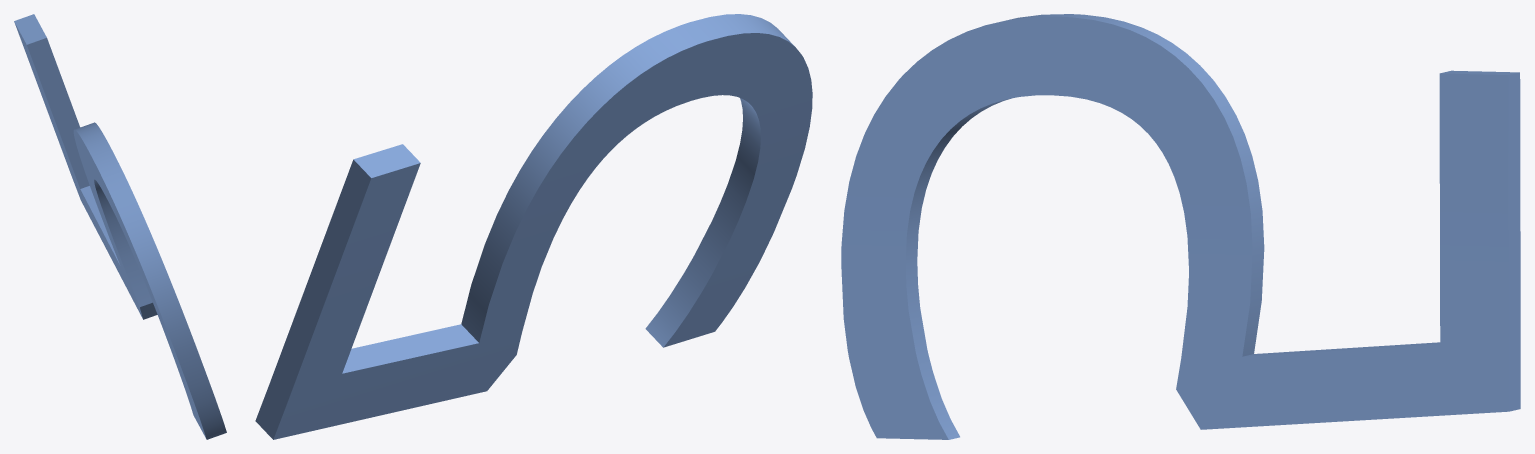
The model's file is New_Number_5.gltf.
3 renders of one model, left to right at view 1: azimuth 30°, elevation 25°; view 2: azimuth 150°, elevation 25°; view 3: azimuth 270°, elevation 25°, orthographic. The views are drawn at different scales.
Parts seen in each view (by area): view 1: Part 626; view 2: Part 626; view 3: Part 626.
Boxes of the visible parts, x1,y1,x2,y2 form: Part 626: (14,14,226,439); Part 626: (255,14,812,439); Part 626: (841,14,1520,439).
Bounding box in the file's own units: 0.00239 × 0.00348 × 0.00549.
